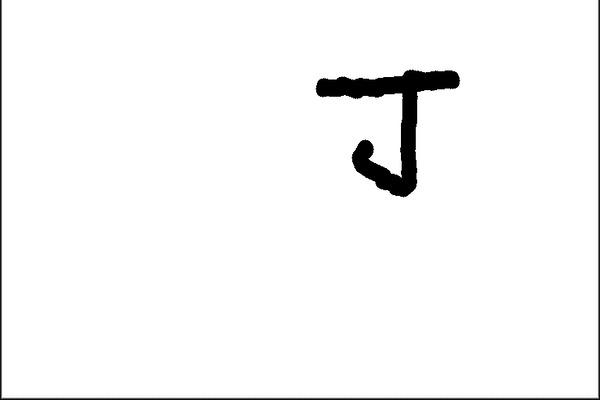J: (308, 63, 466, 203)
